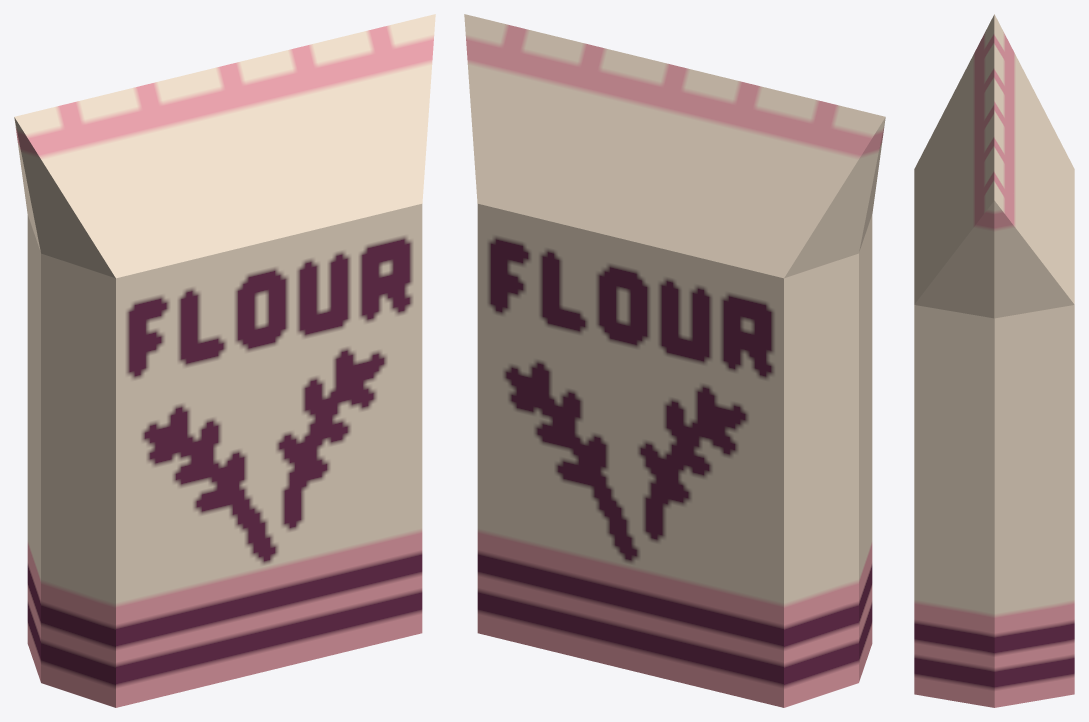
File: Flour.fbx
3 views of the same model, side by side, from view 1: azimuth 30°, elevation 25°; view 2: azimuth 150°, elevation 25°; view 3: azimuth 270°, elevation 25° (orthographic). The views are drawn at different scales.
Visible parts, largest first — view 1: Flour; view 2: Flour; view 3: Flour.
Boxes of the visible parts, <box> form: Flour: <box>14,14,435,707</box>; Flour: <box>464,14,885,707</box>; Flour: <box>914,14,1074,707</box>.
Size of the model in its own units: 0.385 by 0.5 by 0.14.
Materials: 1 (1 with a texture image).
